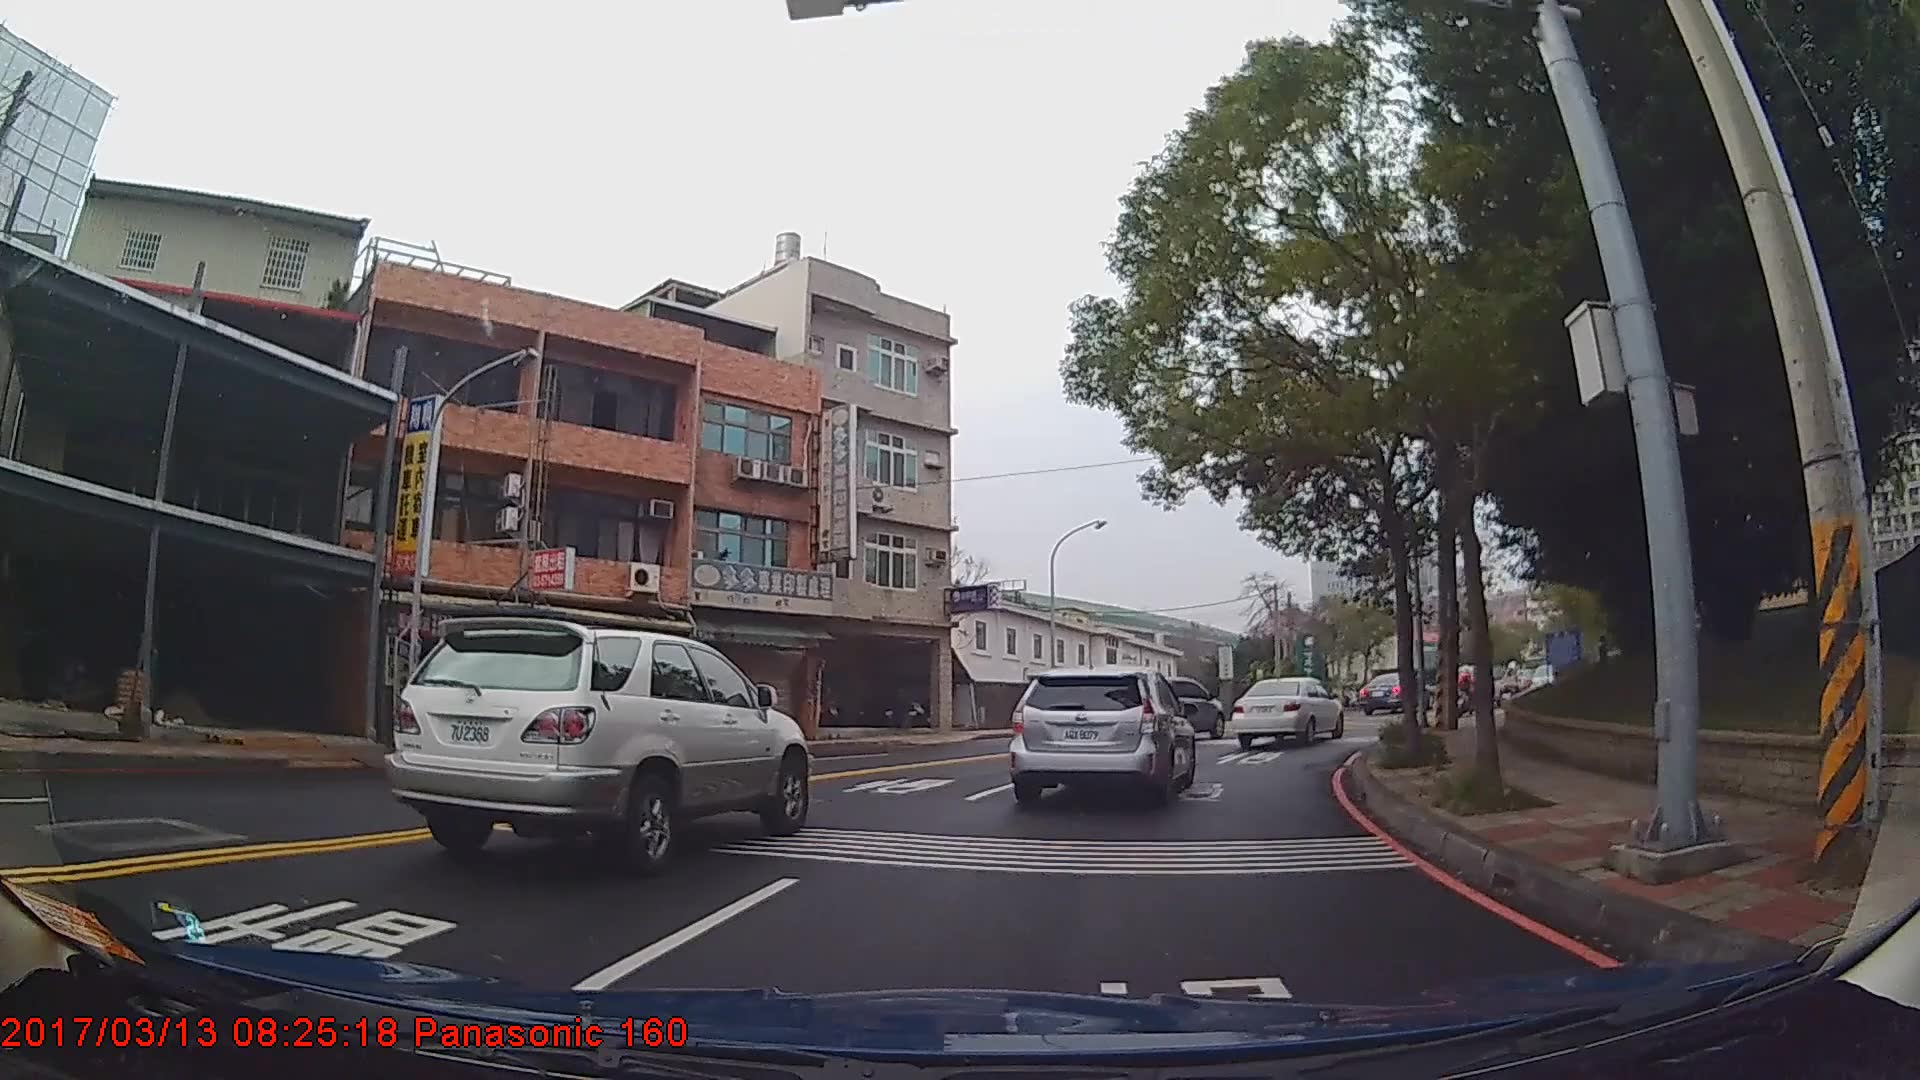vehicle: (386, 615, 811, 874), (1004, 665, 1193, 814), (1226, 675, 1342, 746), (1131, 675, 1222, 738), (1357, 673, 1425, 716)
